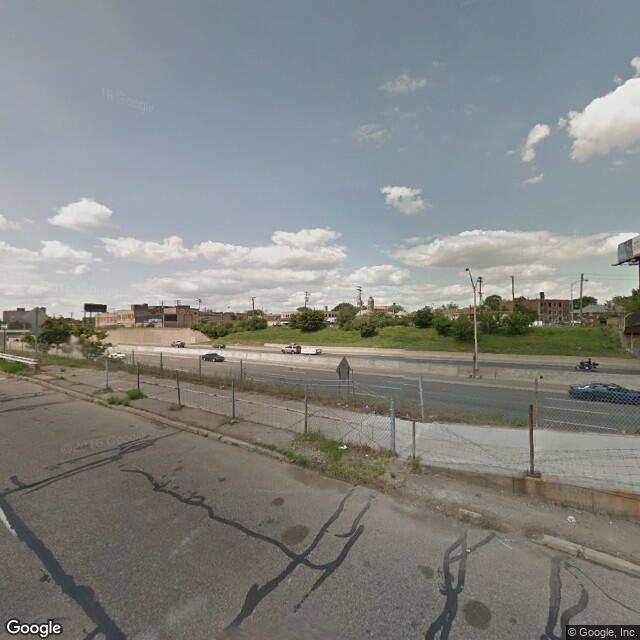litter: (560, 512, 581, 529), (334, 439, 350, 454)
